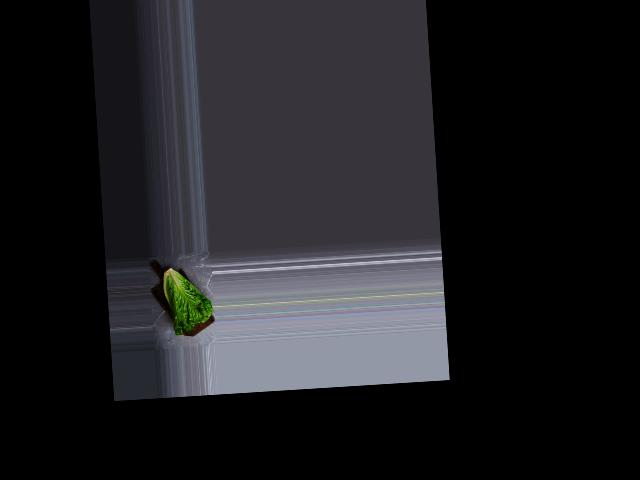lettuce: (154, 262, 214, 336)
